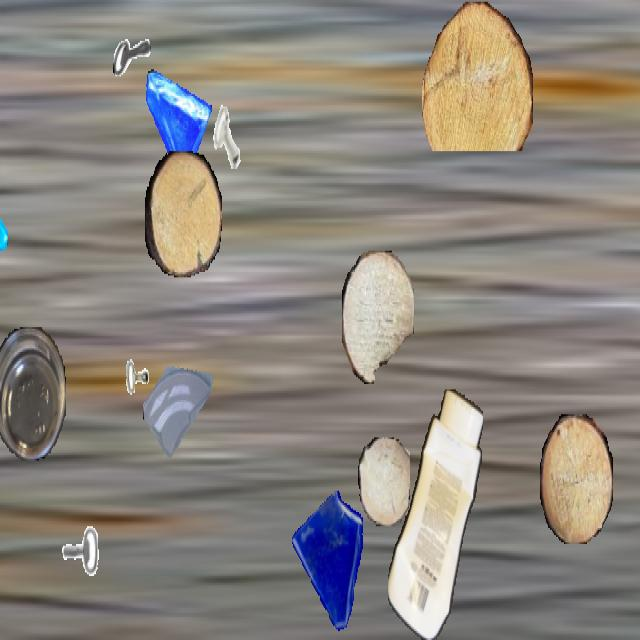glass: (288, 489, 372, 638), (143, 336, 215, 464), (142, 64, 212, 188), (0, 182, 7, 284)
metal: (202, 92, 254, 185), (51, 522, 101, 612), (110, 355, 158, 441), (113, 21, 151, 89)
plastic: (388, 390, 482, 638), (0, 327, 66, 459)
wood: (422, 2, 532, 151), (145, 151, 221, 276), (342, 251, 414, 382), (540, 414, 612, 542), (358, 438, 410, 526)
